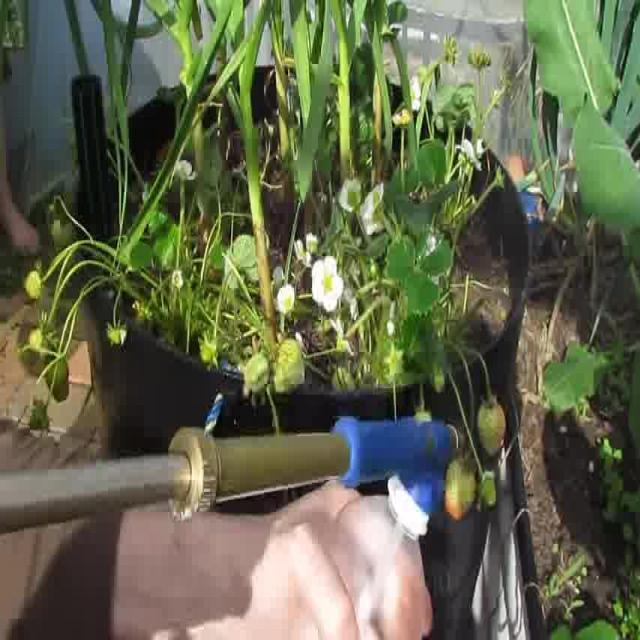Fruta sana: (478, 396, 506, 456), (276, 338, 304, 392), (47, 203, 73, 254), (46, 350, 70, 402), (24, 256, 48, 300), (244, 352, 270, 391), (479, 470, 497, 506), (332, 366, 354, 391), (29, 404, 49, 431), (30, 320, 47, 350), (107, 318, 121, 352), (198, 341, 216, 363), (138, 300, 152, 320), (432, 372, 444, 394), (48, 202, 58, 216), (323, 318, 331, 332)
Moho gris: (444, 448, 475, 521), (414, 406, 434, 424)
